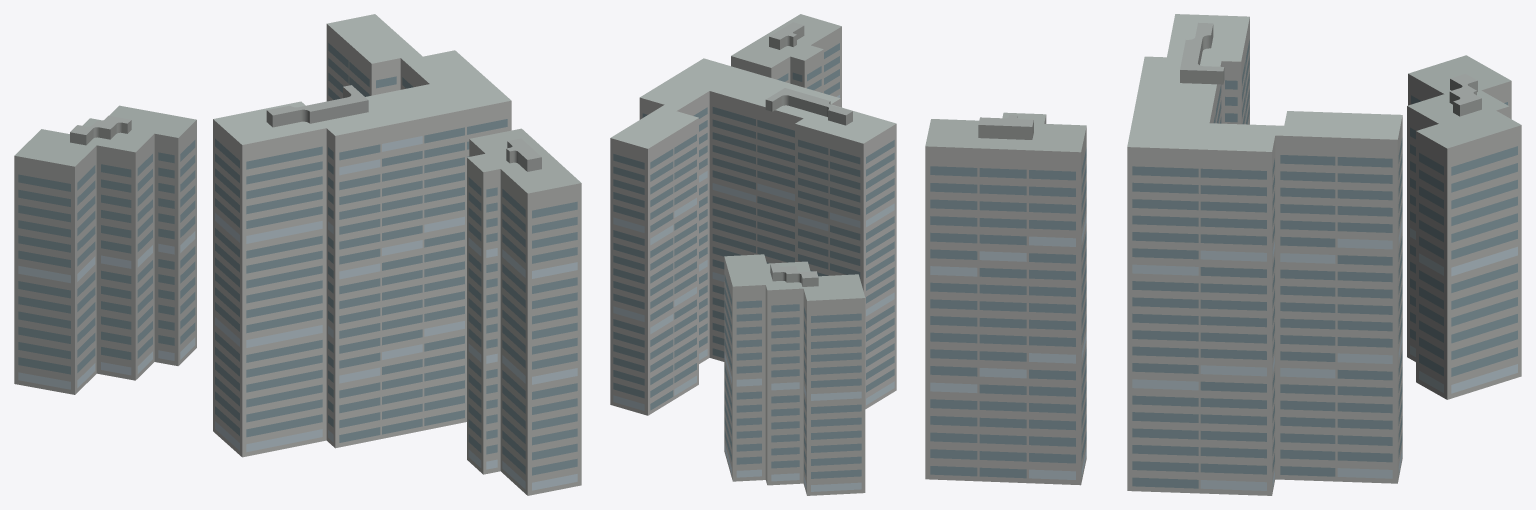
File: apt-a14206305.glb
3 renders of one model, left to right at view 1: azimuth 30°, elevation 25°; view 2: azimuth 150°, elevation 25°; view 3: azimuth 270°, elevation 25°, orthographic. The views are drawn at different scales.
Parts seen in each view (by area): view 1: apt-a14206305; view 2: apt-a14206305; view 3: apt-a14206305.
Part boxes in pixels (x1=…): apt-a14206305: x1=14, y1=14, x2=581, y2=495; apt-a14206305: x1=610, y1=14, x2=896, y2=495; apt-a14206305: x1=925, y1=14, x2=1521, y2=495.
Size of the model in its own units: 73.93 by 65 by 98.38.
